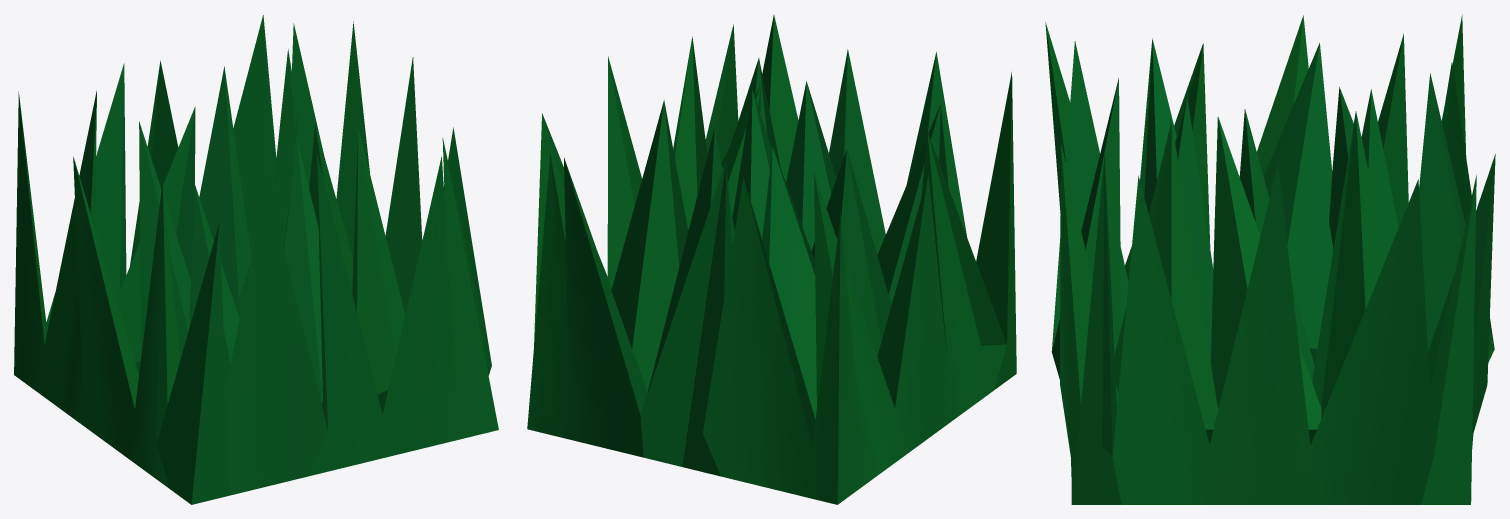
The model's file is Grass.fbx.
3 views of the same model, side by side, from view 1: azimuth 30°, elevation 25°; view 2: azimuth 150°, elevation 25°; view 3: azimuth 270°, elevation 25° (orthographic). The views are drawn at different scales.
Parts seen in each view (by area): view 1: Grass; view 2: Grass; view 3: Grass.
Boxes of the visible parts, x1=… form: Grass: x1=14, y1=15, x2=498, y2=504; Grass: x1=527, y1=15, x2=1016, y2=504; Grass: x1=1045, y1=15, x2=1495, y2=504.
Size of the model in its own units: 2.17 by 2.25 by 1.93.
